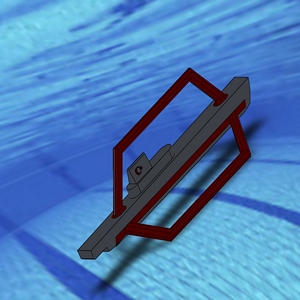submarine: (58, 51, 289, 278)
